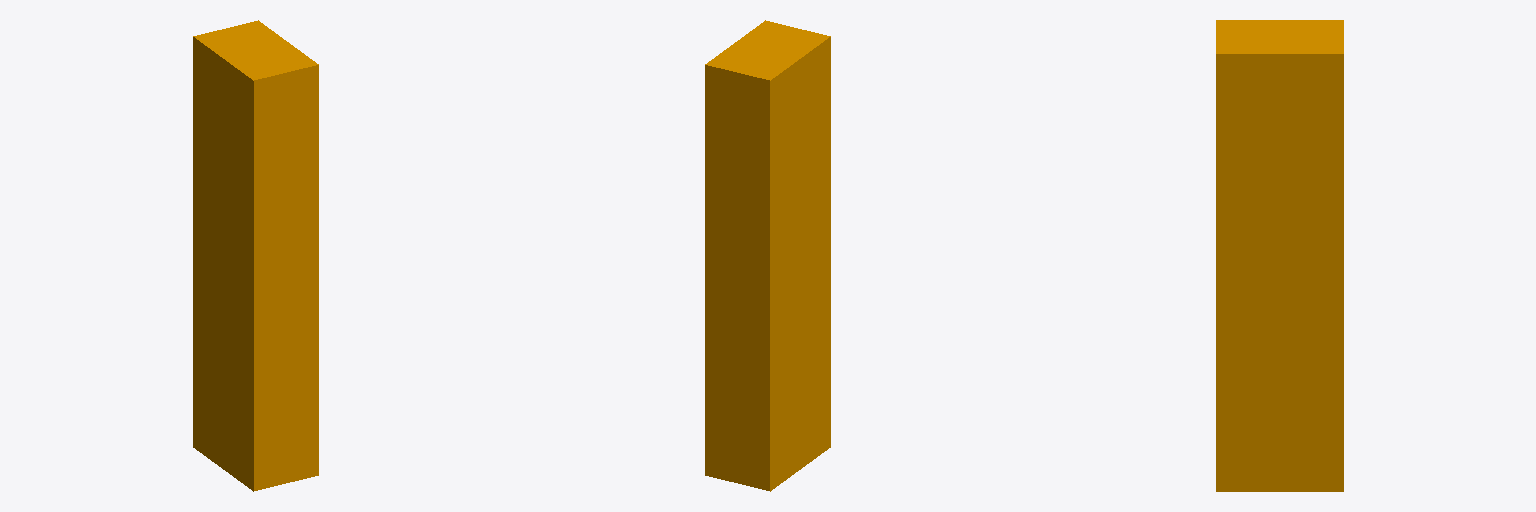
robot.urdf — test_object2:
<!-- test object 2   A small box  2.5 x 4-->

<robot name="test_object2">
	<link name="test_object2">
		<inertial>
			<origin xyz="0 0 0" rpy="0 0 0" />			
			<mass value="0.5" />
			<!-- center of mass (com) is defined w.r.t. link local coordinate system -->
			<origin xyz="0 0 0" />
			<inertia  ixx="0.0" ixy="0.0"  ixz="0.0"  iyy="0.0"  iyz="0.0"  izz="0.0" />
		</inertial>
		<visual>
			<origin xyz="0 0 0" rpy="0 0 0" />
			<geometry>
				<box size="0.025 0.040 0.150" />
			</geometry>
		</visual>
		<collision>
			<origin xyz="0 0 0" rpy="0 0 0" />
			<geometry>
				<box size="0.025 0.040 0.150" /> <!--     15cm high  -->
			</geometry>
		</collision>
	</link>

	<gazebo reference="test_object2">
		<material>Custom/goldengrahams</material>
	</gazebo>
</robot>

--- Facts derived from the render (not from the file) ---
Views: 3 orthographic renders of the robot side by side, from view 1: azimuth 30°, elevation 25°; view 2: azimuth 150°, elevation 25°; view 3: azimuth 270°, elevation 25°.
Robot: test_object2 — 1 links, 0 joints (none); root link test_object2; default pose: all joints at 0.
Visible links, largest first — view 1: test_object2; view 2: test_object2; view 3: test_object2.
Link boxes in pixels (x1,y1,x2,y2): test_object2: (193,20,318,491); test_object2: (705,20,830,491); test_object2: (1216,20,1343,491).
Size in the robot's own frame: 0.025 by 0.04 by 0.15 metres.
Geometry: primitives only (box / cylinder / sphere), no mesh files.
